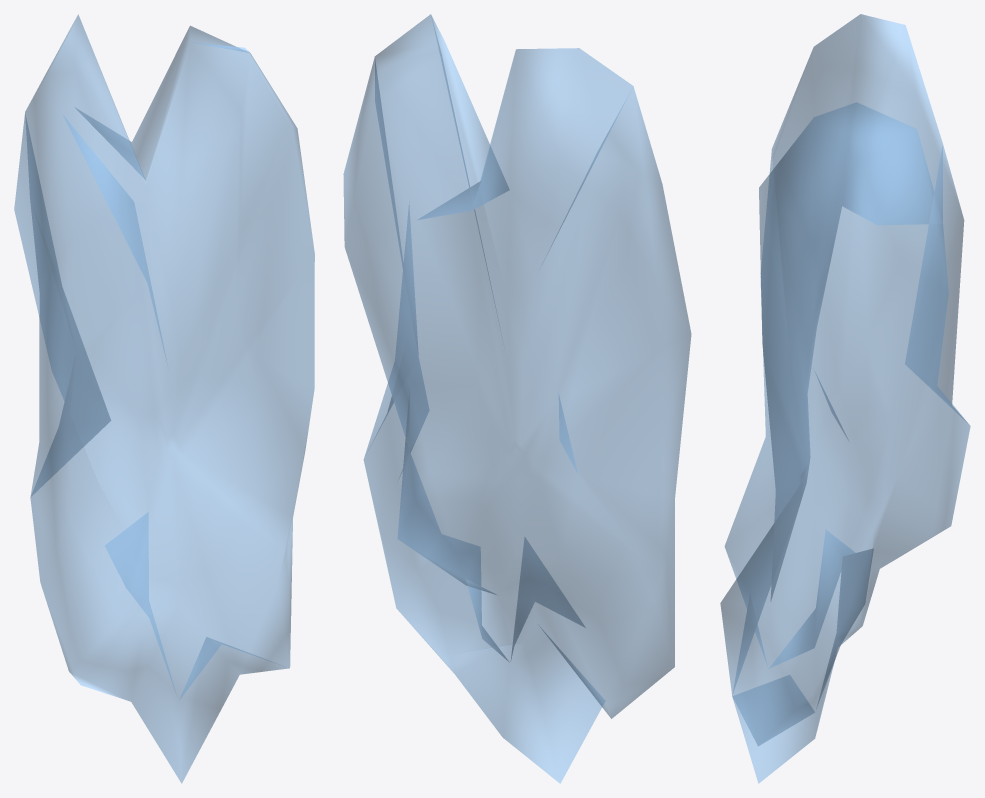
File: mblast_shield.gltf
3 views of the same model, side by side, from view 1: azimuth 30°, elevation 25°; view 2: azimuth 150°, elevation 25°; view 3: azimuth 270°, elevation 25° (orthographic). The views are drawn at different scales.
Parts seen in each view (by area): view 1: mblast.shield; view 2: mblast.shield; view 3: mblast.shield.
Part boxes in pixels (x1,y1,x2,y2): mblast.shield: [14, 14, 314, 783]; mblast.shield: [343, 14, 691, 783]; mblast.shield: [720, 14, 970, 783].
Size of the model in its own units: 20.57 by 52.7 by 16.09.
